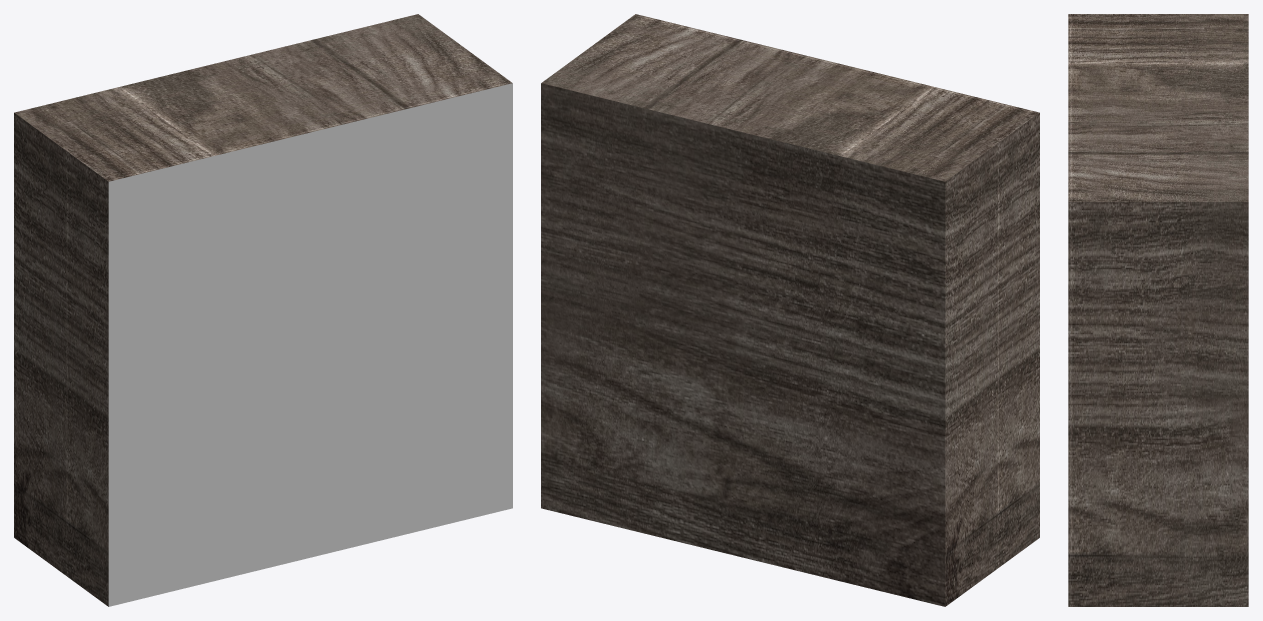
The model's file is ExportedBlenderFBXFile.fbx.
3 renders of one model, left to right at view 1: azimuth 30°, elevation 25°; view 2: azimuth 150°, elevation 25°; view 3: azimuth 270°, elevation 25°, orthographic. The views are drawn at different scales.
Visible parts, largest first — view 1: Cube; view 2: Cube; view 3: Cube.
Boxes of the visible parts, <box> form: Cube: <box>14,14,512,606</box>; Cube: <box>541,14,1039,606</box>; Cube: <box>1068,14,1248,606</box>.
Size of the model in its own units: 4.31 by 4.33 by 1.74.
